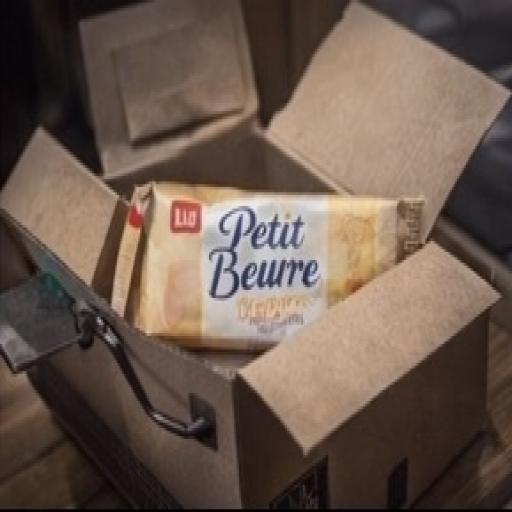petit-beurre: (94, 108, 426, 402)
